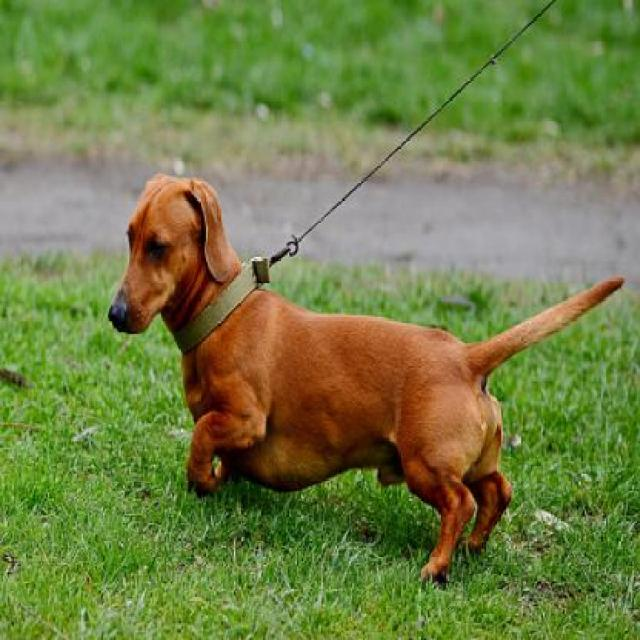Dog: (103, 165, 629, 592)
